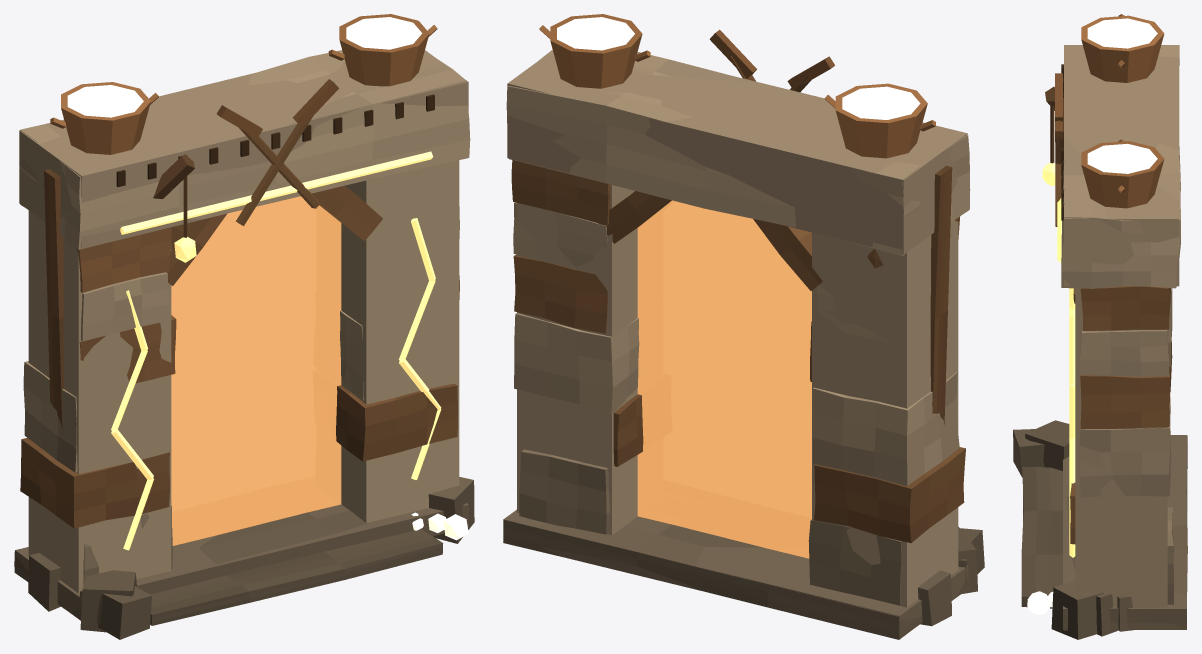
File: portal_kitchen.glb
3 views of the same model, side by side, from view 1: azimuth 30°, elevation 25°; view 2: azimuth 150°, elevation 25°; view 3: azimuth 270°, elevation 25° (orthographic). The views are drawn at different scales.
Visible parts, largest first — view 1: Far_Body, Surface_Far, Surface_Near, Lintel, Pillar_L, Base, Motif_CopperPots, Pillar_R, Motif_GoldVein, Motif_Scaffold, Motif_Pick, Motif_GoldNuggets; view 2: Far_Body, Surface_Far, Surface_Near, Pillar_R, Pillar_L, Lintel, Base, Motif_CopperPots, Motif_Scaffold, Motif_Pick; view 3: Far_Body, Pillar_R, Base, Motif_CopperPots, Lintel, Motif_GoldVein, Motif_Pick, Motif_Scaffold, Motif_GoldNuggets, Pillar_L.
Boxes of the visible parts, x1,y1,x2,y2 form: Far_Body: (15, 50, 468, 620); Surface_Far: (171, 197, 341, 545); Surface_Near: (172, 196, 340, 545); Lintel: (19, 50, 470, 285); Pillar_L: (20, 227, 176, 584); Base: (14, 477, 474, 639); Motif_CopperPots: (50, 14, 437, 154); Pillar_R: (336, 206, 459, 461); Motif_GoldVein: (111, 151, 441, 550); Motif_Scaffold: (44, 154, 196, 428); Motif_Pick: (216, 79, 338, 226); Motif_GoldNuggets: (411, 512, 468, 540); Far_Body: (503, 55, 968, 625); Surface_Far: (637, 201, 811, 558); Surface_Near: (637, 200, 811, 558); Pillar_R: (511, 160, 643, 534); Pillar_L: (808, 216, 965, 605); Lintel: (506, 50, 970, 290); Base: (503, 516, 984, 639); Motif_CopperPots: (539, 14, 935, 158); Motif_Scaffold: (930, 165, 952, 424); Motif_Pick: (709, 29, 834, 92); Far_Body: (1063, 45, 1186, 629); Pillar_R: (1070, 286, 1173, 604); Base: (1013, 420, 1187, 639); Motif_CopperPots: (1081, 14, 1164, 208); Lintel: (1061, 45, 1180, 303); Motif_GoldVein: (1057, 198, 1075, 557); Motif_Pick: (1055, 73, 1063, 226); Motif_Scaffold: (1042, 86, 1055, 186); Motif_GoldNuggets: (1027, 591, 1053, 615); Pillar_L: (1168, 288, 1172, 392).
Bounding box in the file's own units: 2.65 × 3.09 × 1.06.
